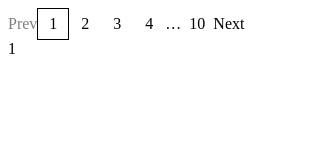
Test: Pagination › advances on Next and reflects it via bind:page
Step 1. Click the button with aria-label "Next page" → (229, 24), box [213, 8, 244, 40]
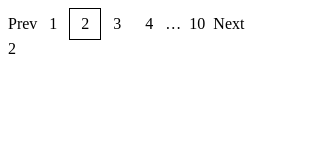
expect the text with test id "page" reads "2": met, box [8, 40, 16, 57]
